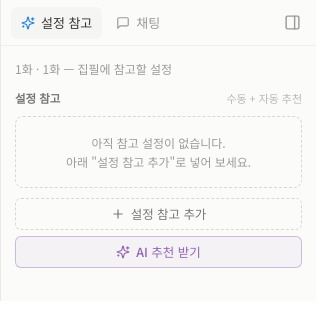
Test: MemoryPanel · ChatTab › 중단 후 부분 답변이 말풍선으로 남고 입력이 다시 활성화된다 (task #66)
Click the button "채팅" at (138, 22), box [106,6,170,38]
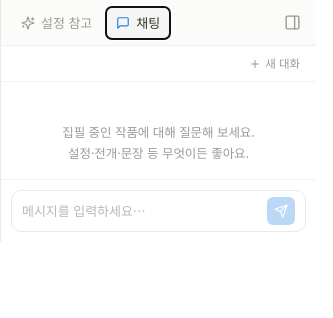
Type "질문" into the text box with placeholder "메시지를 입력하세요…" at (142, 212), box [22,200,261,224]
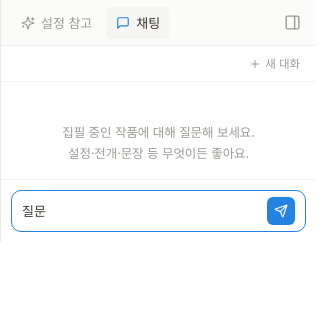
Click the button named "전송" at (281, 210), box [267,196,295,224]
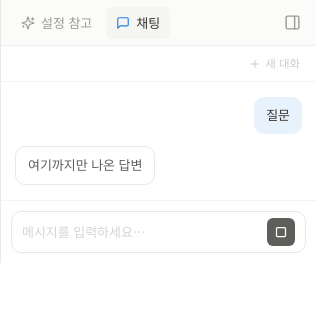
Click the button named "생성 중단" at (281, 232), box [267,218,295,246]
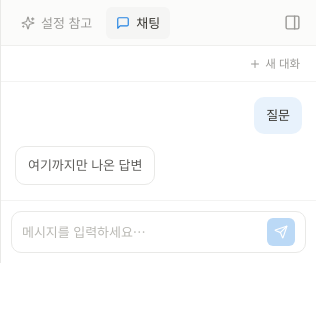
Result: the text "여기까지만 나온 답변" is shown at [28,155,142,176]
Result: the text box with placeholder "메시지를 입력하세요…" is enabled at [22,222,261,246]
Result: the button named "전송" is shown at [267,218,295,246]
